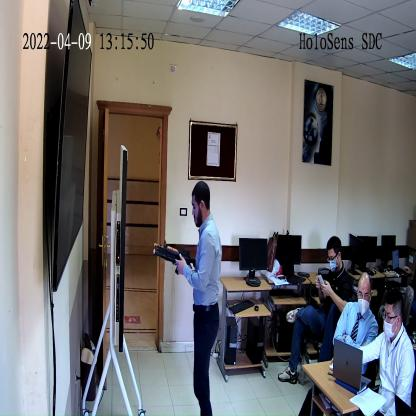handgun: (156, 241, 197, 277)
